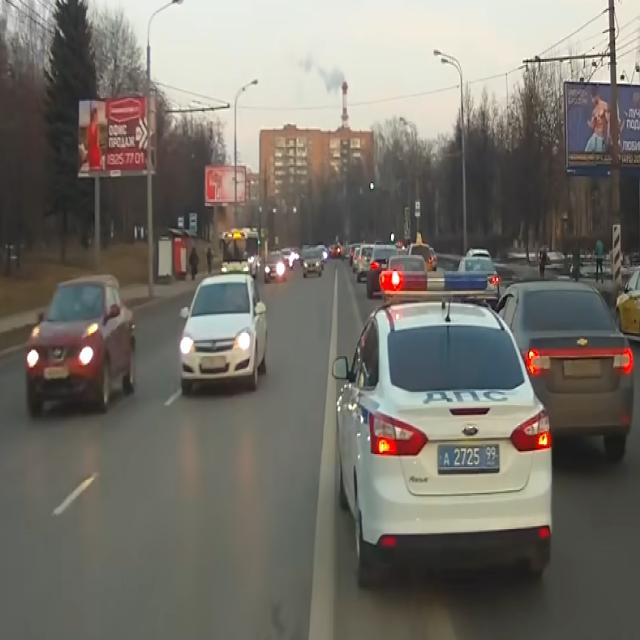non emergency car: (499, 278, 631, 467), (26, 273, 140, 417), (182, 275, 269, 396), (220, 223, 260, 279), (300, 245, 327, 280), (264, 252, 287, 281)
police car: (334, 270, 555, 583)
